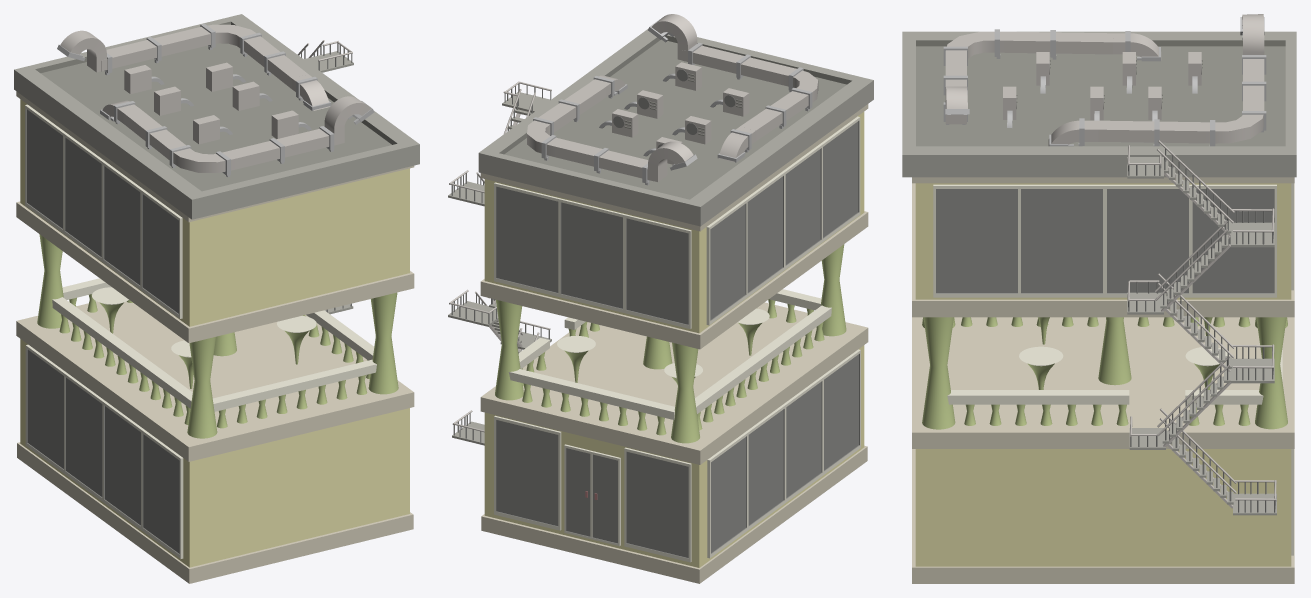
File: house34.fbx
The picture shows the model from 3 angles, left to right: view 1: azimuth 30°, elevation 25°; view 2: azimuth 150°, elevation 25°; view 3: azimuth 270°, elevation 25°; orthographic projection. The views are drawn at different scales.
Visible parts, largest first — view 1: d_1; view 2: d_1; view 3: d_1.
Part boxes in pixels (x1,y1,x2,y2): d_1: (14, 14, 419, 583); d_1: (448, 14, 873, 583); d_1: (902, 14, 1296, 583).
Bounding box in the file's own units: 1004 × 1516 × 1150.
